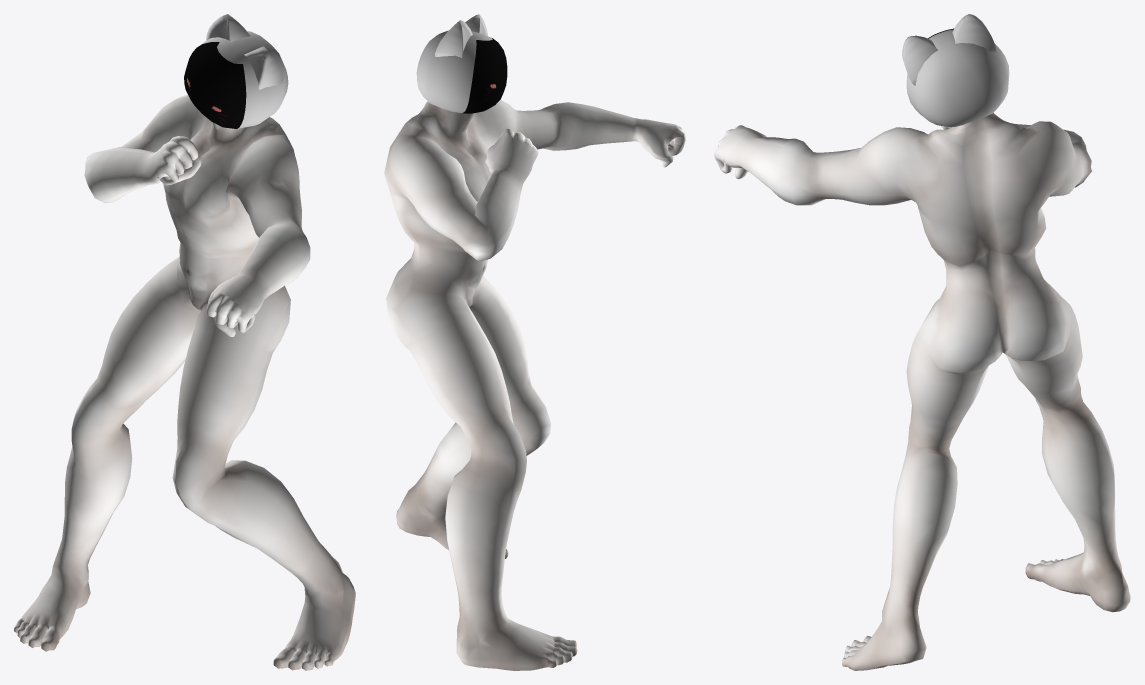
The picture shows the model from 3 angles, left to right: view 1: azimuth 30°, elevation 25°; view 2: azimuth 150°, elevation 25°; view 3: azimuth 270°, elevation 25°; orthographic projection. The views are drawn at different scales.
Visible parts, largest first — view 1: Muscle_Body, Cat_Head, ______?001; view 2: Muscle_Body, Cat_Head, ______?001; view 3: Muscle_Body, Cat_Head.
Part boxes in pixels (<box>): Muscle_Body: <box>14,94,355,670</box>; Cat_Head: <box>200,14,288,128</box>; ______?001: <box>184,42,246,128</box>; Muscle_Body: <box>384,100,685,670</box>; Cat_Head: <box>416,14,492,112</box>; ______?001: <box>462,38,507,113</box>; Muscle_Body: <box>714,112,1130,670</box>; Cat_Head: <box>902,14,1009,126</box>.
Bounding box in the file's own units: 12.15 × 27.75 × 16.41.
